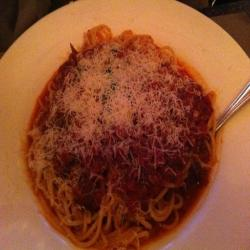bolonese_pasta: (23, 42, 215, 235)
